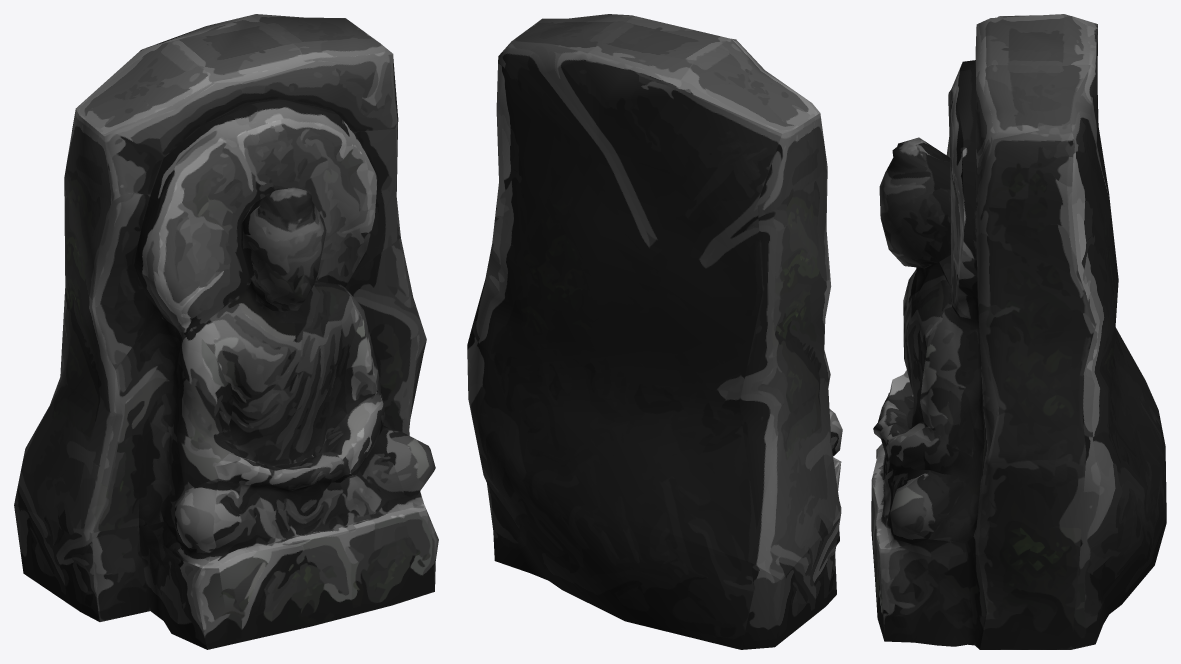
The model's file is VV-BuddhaStatue-1.fbx.
The picture shows the model from 3 angles, left to right: view 1: azimuth 30°, elevation 25°; view 2: azimuth 150°, elevation 25°; view 3: azimuth 270°, elevation 25°; orthographic projection. The views are drawn at different scales.
Visible parts, largest first — view 1: BuddhaStatue-1; view 2: BuddhaStatue-1; view 3: BuddhaStatue-1.
Part boxes in pixels (x1=…): BuddhaStatue-1: x1=14, y1=14, x2=438, y2=649; BuddhaStatue-1: x1=467, y1=14, x2=842, y2=649; BuddhaStatue-1: x1=871, y1=14, x2=1166, y2=649.
Size of the model in its own units: 0.0543 by 0.0804 by 0.0399.
